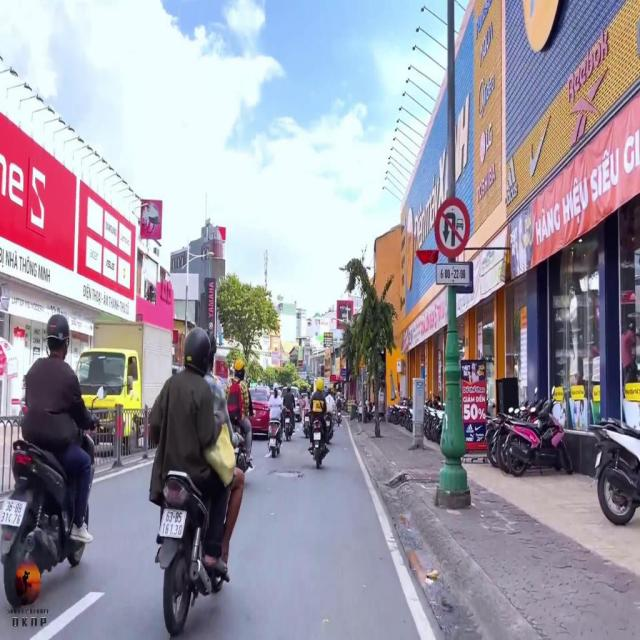cam_o_to_quay_dau_xe: (434, 196, 470, 260)
khac: (436, 264, 468, 285)
